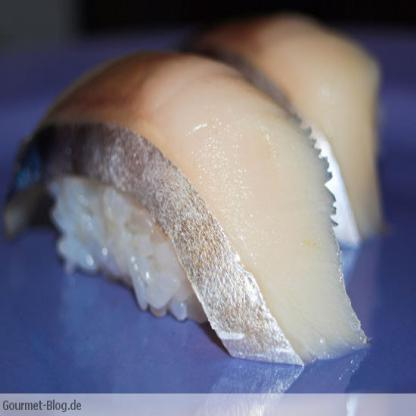saba: (0, 39, 387, 383)
